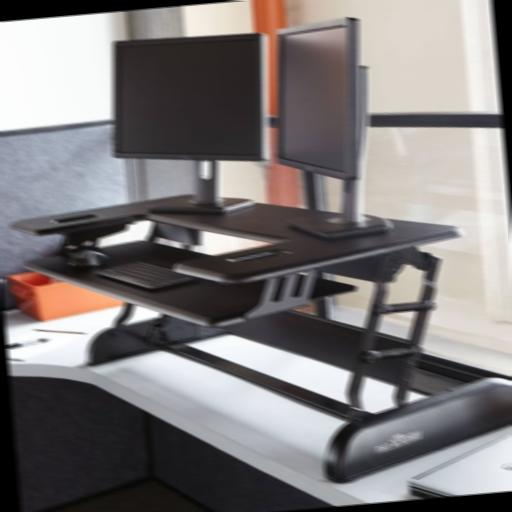desk: (7, 165, 512, 510), (2, 262, 512, 512)
